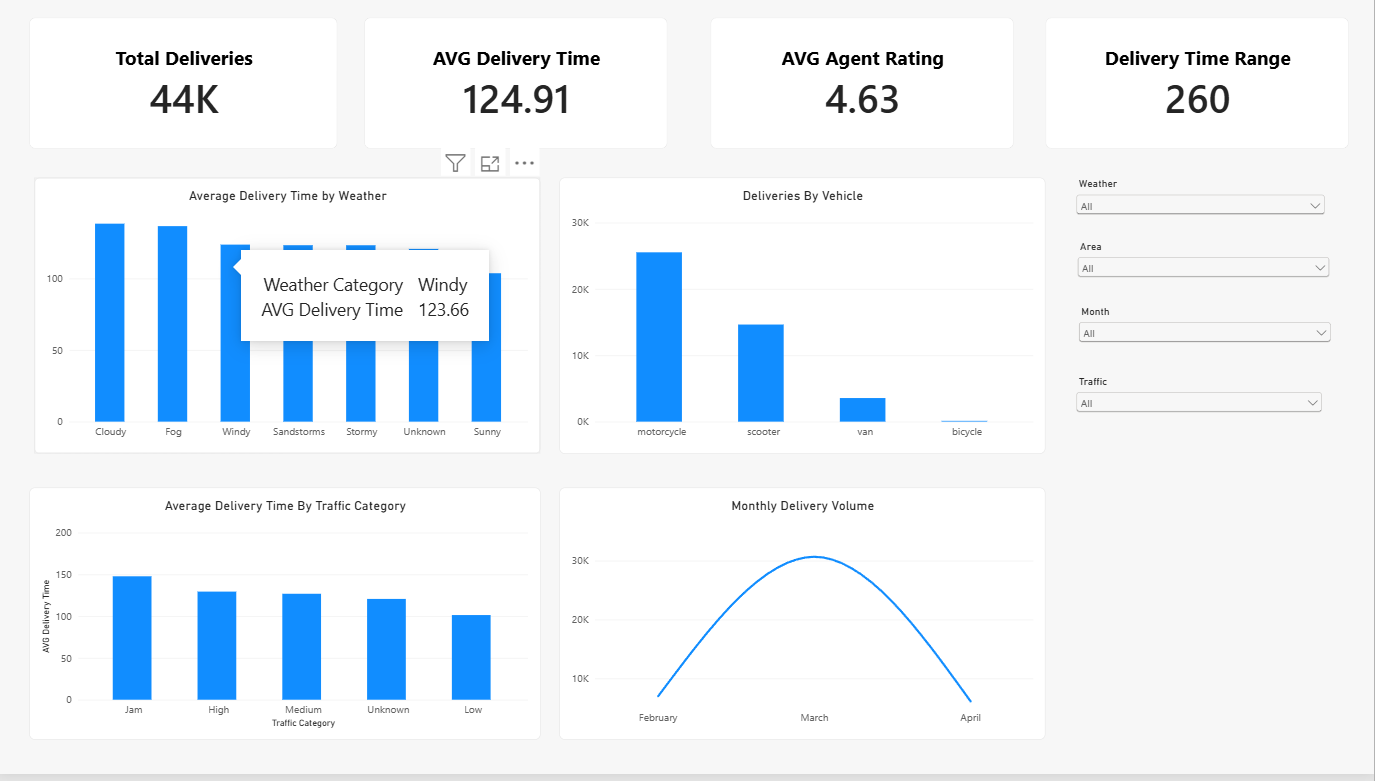

Layout of this report page (visuals, bound fields, positions):
{"tool":"powerbi","page":{"name":"Page 1","canvas":[1920,1080],"ordinal":0},"visuals":[{"type":"cardVisual","fields":{"Data":["amazon_delivery.Total Deliveries"]},"box":[43.6,24.4,430.8,183.1],"z":0},{"type":"cardVisual","fields":{"Data":["amazon_delivery.AVG Delivery Time"]},"box":[511,24.4,423.8,183.1],"z":1000},{"type":"cardVisual","fields":{"Data":["amazon_delivery.AVG Agent Rating"]},"box":[994.2,24.4,423.8,183.1],"z":2000},{"type":"cardVisual","fields":{"Data":["amazon_delivery.Delivery Time Range"]},"box":[1461.6,24.4,423.8,183.1],"z":3000},{"type":"clusteredColumnChart","title":"Average Delivery Time By Traffic Category","fields":{"Category":["amazon_delivery.Traffic Category"],"Y":["amazon_delivery.AVG Delivery Time"]},"box":[43.6,680.2,713.4,352.3],"z":4000},{"type":"lineChart","title":"Monthly Delivery Volume","fields":{"Category":["amazon_delivery.Order_Date.Variation.Date Hierarchy.Year","amazon_delivery.Order_Date.Variation.Date Hierarchy.Quarter","amazon_delivery.Order_Date.Variation.Date Hierarchy.Month"],"Y":["CountNonNull(amazon_delivery.Order_ID)"]},"box":[783.1,680.2,678.5,352.3],"z":5000},{"type":"clusteredColumnChart","title":"Deliveries By Vehicle","fields":{"Category":["amazon_delivery.Vehicle"],"Y":["CountNonNull(amazon_delivery.Order_ID)"]},"box":[783.1,247.7,678.5,385.5],"z":6000},{"type":"clusteredColumnChart","title":"Average Delivery Time by Weather","fields":{"Category":["amazon_delivery.Weather Category"],"Y":["amazon_delivery.AVG Delivery Time"]},"box":[50.6,247.7,706.4,385.5],"z":7000},{"type":"slicer","fields":{"Values":["amazon_delivery.Order_Date.Variation.Date Hierarchy.Month"]},"box":[1503.5,425.6,361,68],"z":8000},{"type":"slicer","fields":{"Values":["amazon_delivery.Traffic Category"]},"box":[1500,523.3,352.3,76.7],"z":10000},{"type":"slicer","fields":{"Values":["amazon_delivery.Weather Category"]},"box":[1500,247.7,355.8,69.8],"z":11000},{"type":"slicer","fields":{"Values":["amazon_delivery.Area"]},"box":[1501.7,334.9,361,71.5],"z":12000}]}

Visuals, with their boxes in screenshot pixels (x1, y1, x2, y2), scaled from the page's 1920x1080 canvas onto the 1376x781 screenshot:
cardVisual - amazon_delivery.Total Deliveries: (x1=31, y1=18, x2=340, y2=150)
cardVisual - amazon_delivery.AVG Delivery Time: (x1=366, y1=18, x2=670, y2=150)
cardVisual - amazon_delivery.AVG Agent Rating: (x1=713, y1=18, x2=1016, y2=150)
cardVisual - amazon_delivery.Delivery Time Range: (x1=1047, y1=18, x2=1351, y2=150)
"Average Delivery Time By Traffic Category" clusteredColumnChart: (x1=31, y1=492, x2=543, y2=747)
"Monthly Delivery Volume" lineChart: (x1=561, y1=492, x2=1047, y2=747)
"Deliveries By Vehicle" clusteredColumnChart: (x1=561, y1=179, x2=1047, y2=458)
"Average Delivery Time by Weather" clusteredColumnChart: (x1=36, y1=179, x2=543, y2=458)
slicer - amazon_delivery.Order_Date.Variation.Date Hierarchy.Month: (x1=1078, y1=308, x2=1336, y2=357)
slicer - amazon_delivery.Traffic Category: (x1=1075, y1=378, x2=1327, y2=434)
slicer - amazon_delivery.Weather Category: (x1=1075, y1=179, x2=1330, y2=230)
slicer - amazon_delivery.Area: (x1=1076, y1=242, x2=1335, y2=294)
